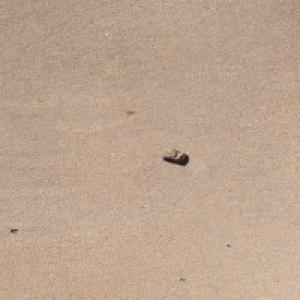Rock: (158, 147, 186, 161)
